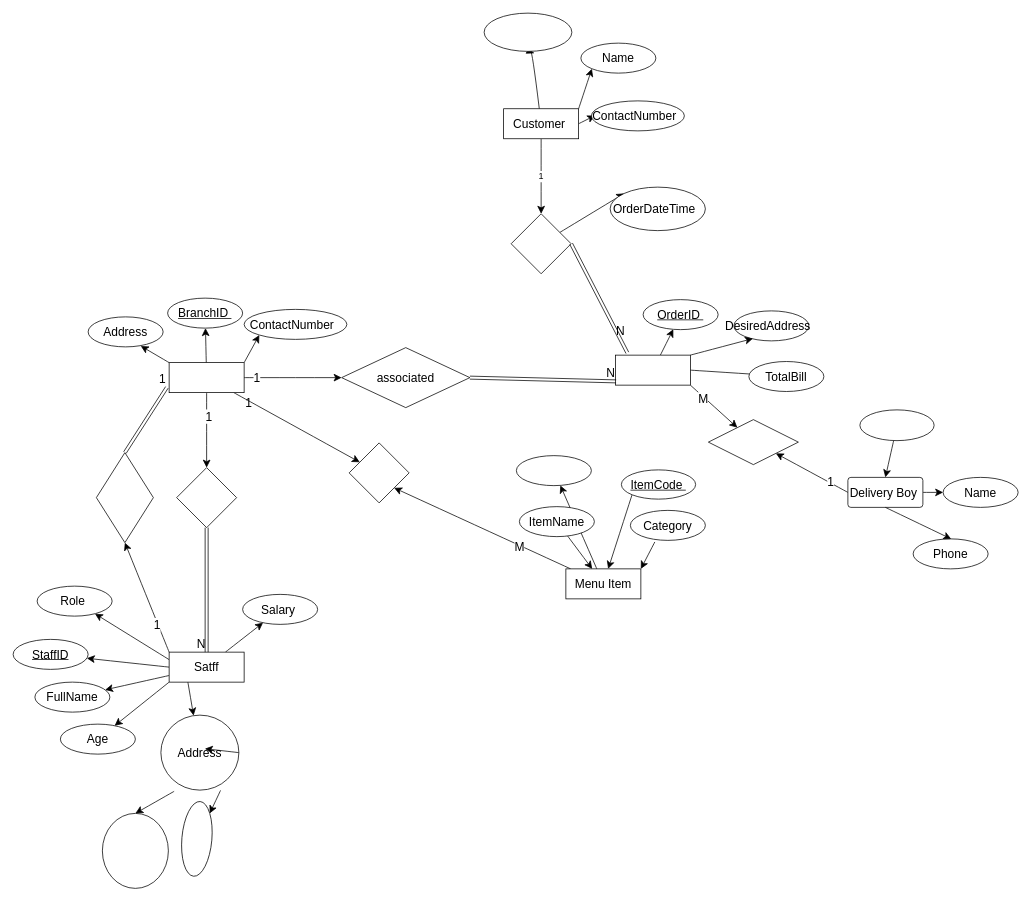
The diagram is 1031 pixels wide and 902 high, and some of its shapes have lost their labels. Each missing label, with the centre of its shape:
Branch: the point at 206,377
City: the point at 196,838
CustomerCode: the point at 527,31
Deliver: the point at 753,442
ID: the point at 896,425
Mange: the point at 124,497
Order: the point at 652,369
Place: the point at 540,243
provid: the point at 378,472
Region: the point at 135,850
UnitPrice: the point at 553,470
work: the point at 206,497
